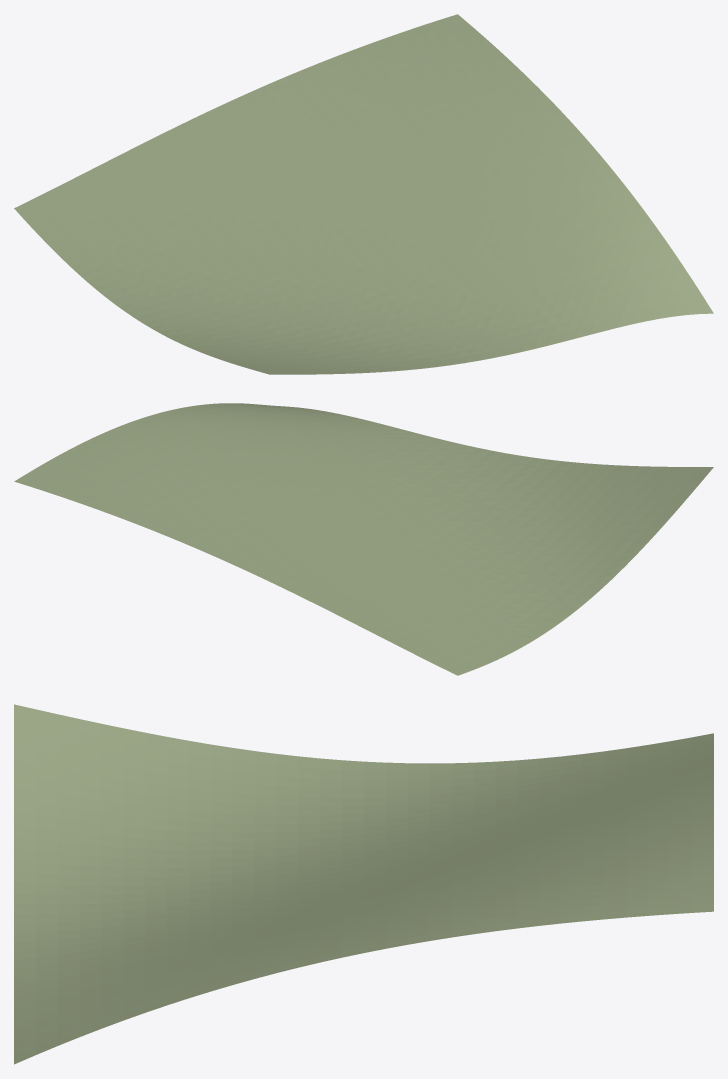
The model's file is expanse-12-13.glb.
3 renders of one model, top to bottom at view 1: azimuth 30°, elevation 25°; view 2: azimuth 150°, elevation 25°; view 3: azimuth 270°, elevation 25°, orthographic. The views are drawn at different scales.
Visible parts, largest first — view 1: expanse-12-13; view 2: expanse-12-13; view 3: expanse-12-13.
Part boxes in pixels (x1,y1,x2,y2): expanse-12-13: [14, 14, 713, 374]; expanse-12-13: [14, 403, 713, 675]; expanse-12-13: [14, 704, 713, 1064].
Size of the model in its own units: 256 by 61.7 by 256.
